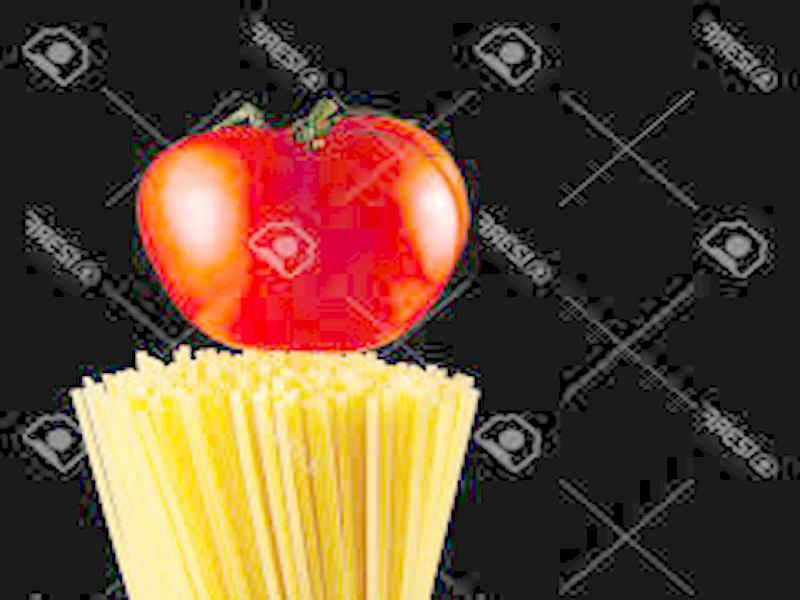Tomato: (139, 114, 462, 354)
